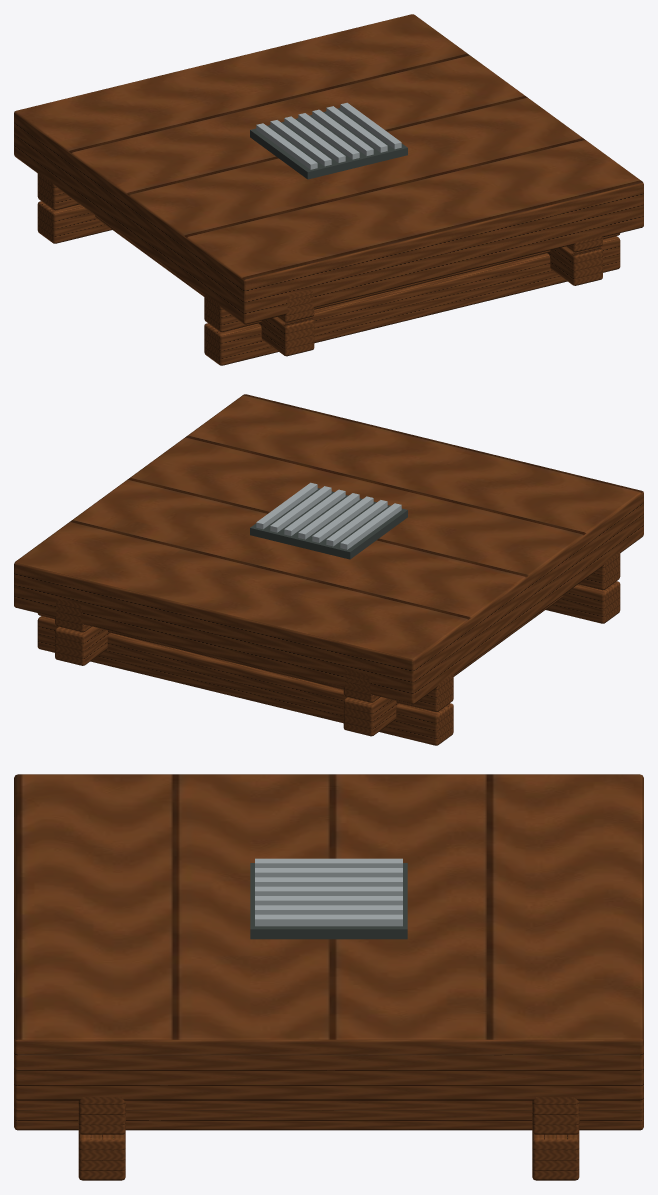
Rendered from rural-scavenging-settlements-shed-drain-floor-6fc0aa16__26511.glb.
The picture shows the model from 3 angles, top to bottom: view 1: azimuth 30°, elevation 25°; view 2: azimuth 150°, elevation 25°; view 3: azimuth 270°, elevation 25°; orthographic projection. The views are drawn at different scales.
Visible parts, largest first — view 1: shed-drain-floor; view 2: shed-drain-floor; view 3: shed-drain-floor.
Boxes of the visible parts, x1=… form: shed-drain-floor: x1=14, y1=14, x2=643, y2=365; shed-drain-floor: x1=14, y1=394, x2=643, y2=745; shed-drain-floor: x1=14, y1=774, x2=643, y2=1180.
Bounding box in the file's own units: 2 × 0.56 × 2.
3 materials, 1 textured.
